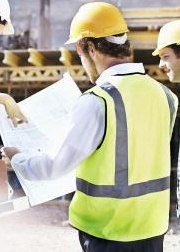gloves: (160, 187, 180, 241)
hard-hat: (64, 0, 128, 45)
vest: (0, 26, 50, 218)
